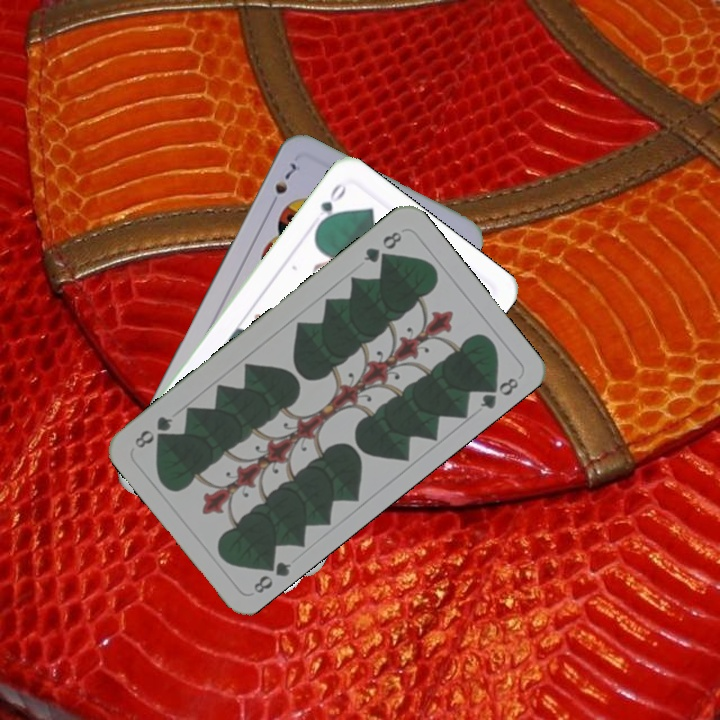G8: (249, 553, 294, 596), (359, 227, 405, 266)
GO: (312, 179, 349, 232)
S7: (265, 158, 300, 211)
